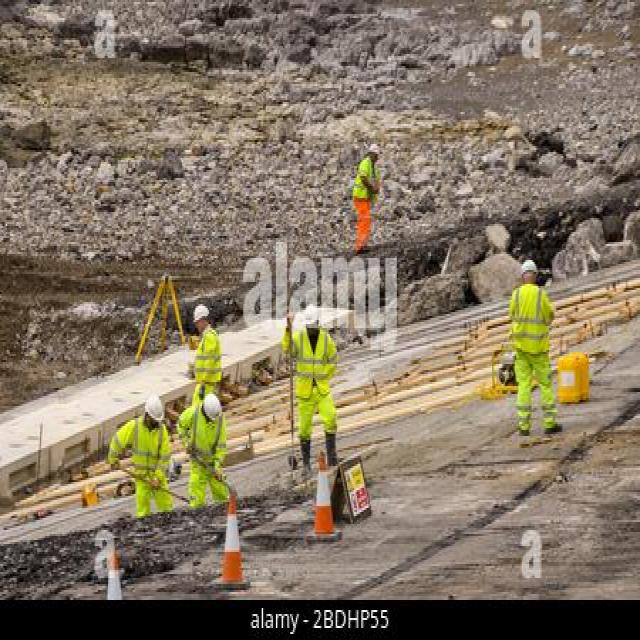Reflective-Jacket: (292, 328, 337, 402), (128, 420, 171, 492), (509, 284, 552, 356), (190, 408, 228, 470), (195, 328, 225, 386)
Safety-Helmet: (144, 390, 165, 424), (202, 390, 223, 418), (301, 300, 323, 326), (192, 300, 212, 322), (521, 256, 539, 276), (368, 142, 382, 158)
